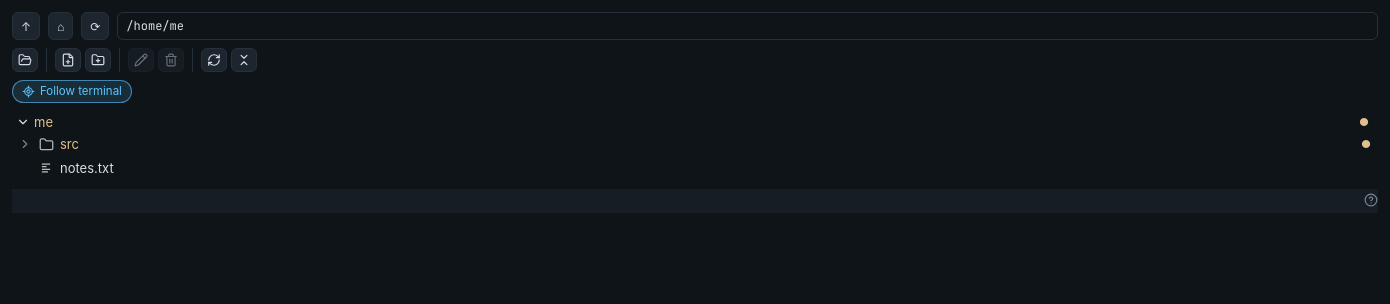
Test: LocalPanel tree › shows a dot on folders holding changes and the letter on the file
Expected: the text with class "sftp-row__git" in the row of "src" reads "●", [1361,137,1371,151]
Click the text "src" at (70, 144), box [60,136,79,152]
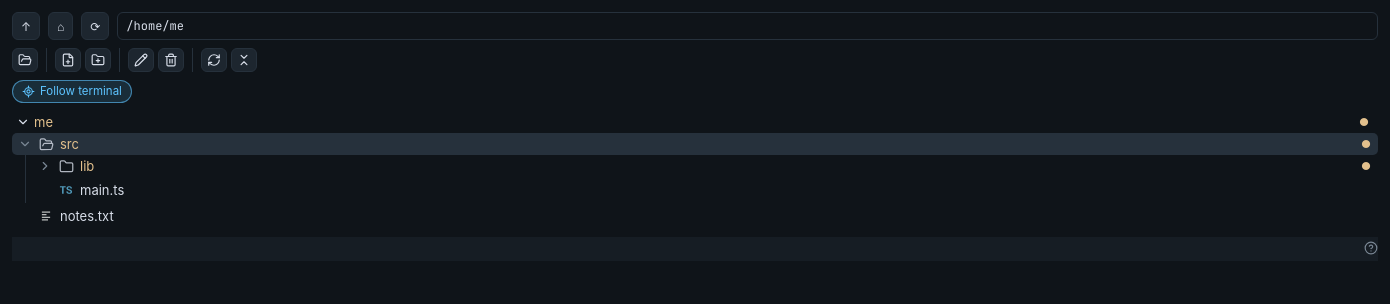
Click the text "lib" at (87, 166), box [80,158,94,174]
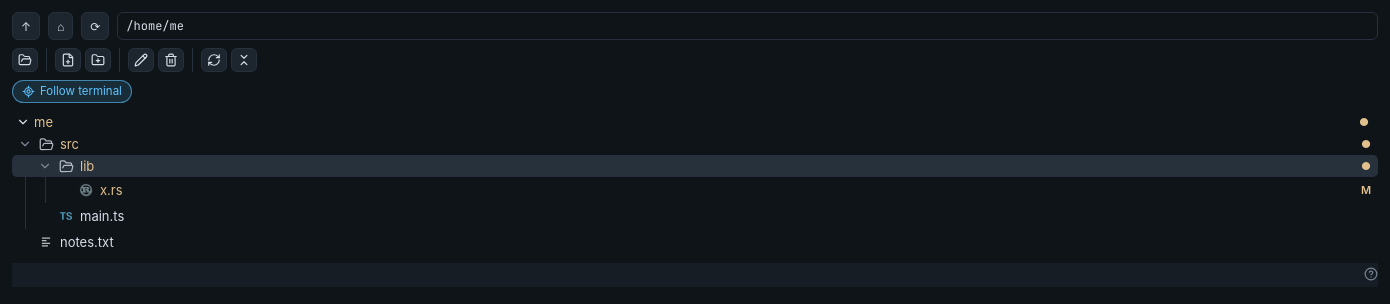
Expected: the text with class "sftp-row__git" in the row of "lib" reads "●", [1361,159,1371,173]
Expected: the text "x.rs" is shown, [100,182,123,198]
Expected: the text with class "sftp-row__git" reads "M", [1361,183,1371,197]
